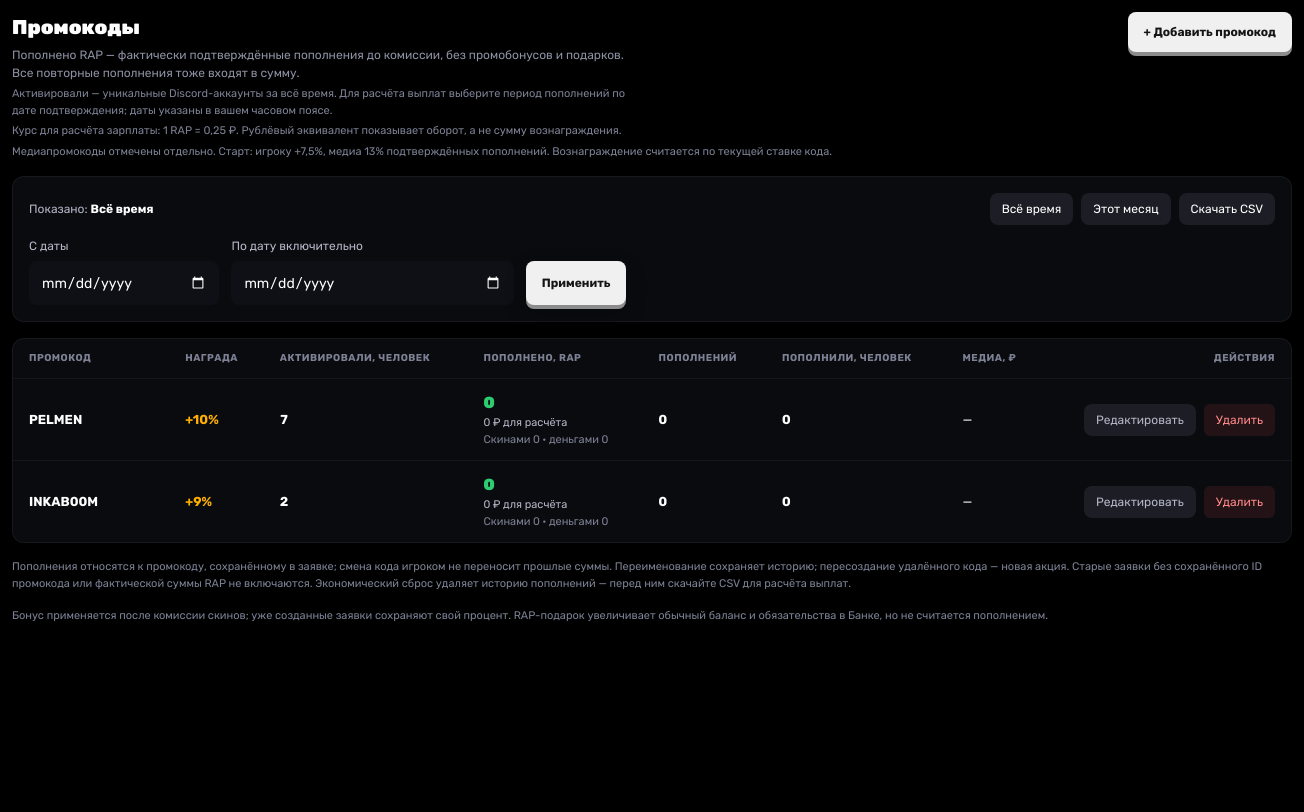
Scenario: does not display or export the old report when loading a new period fails
What coordinates should you click on to do the following:
click the button "Этот месяц"
I would click on:
 (1126, 209)
Its box is [1081,193,1171,225].
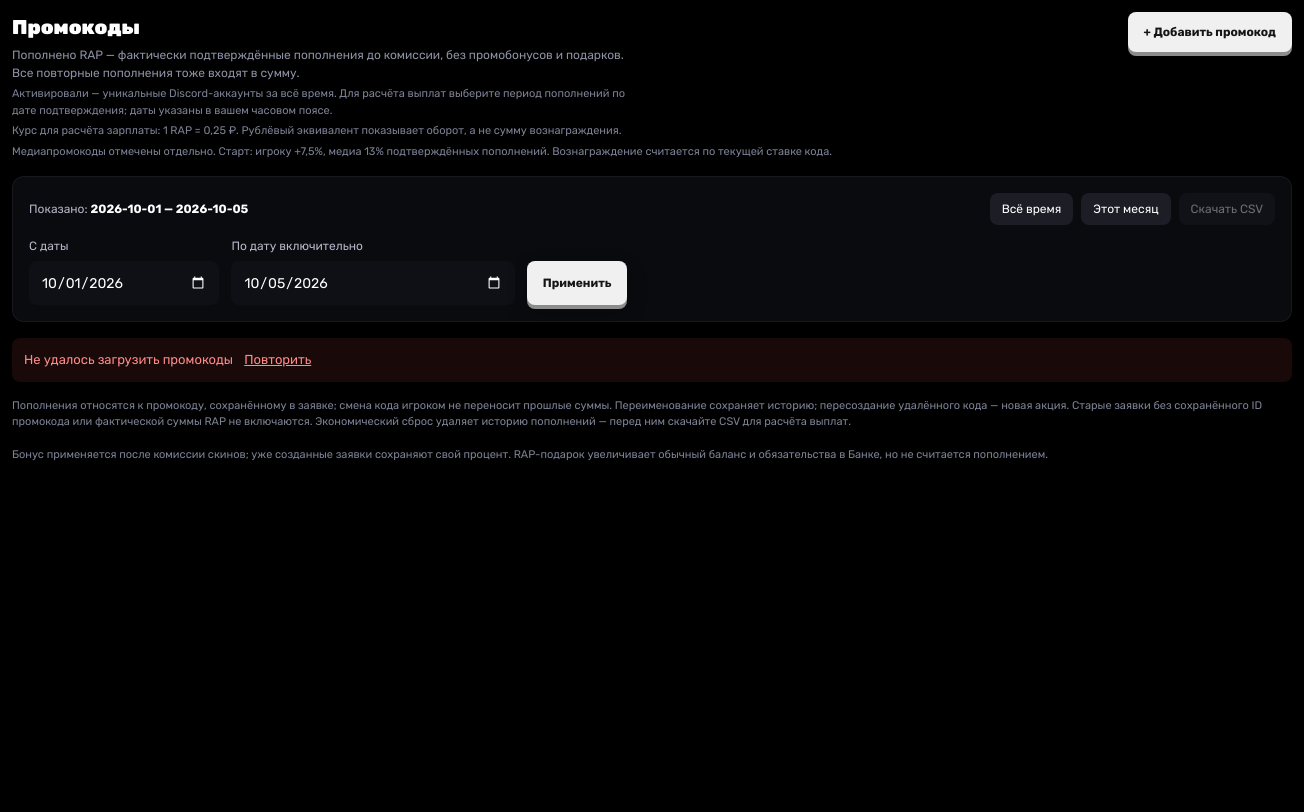
Check: the message "Не удалось загрузить промокоды Повторить" is shown, box [12,338,1292,382]
